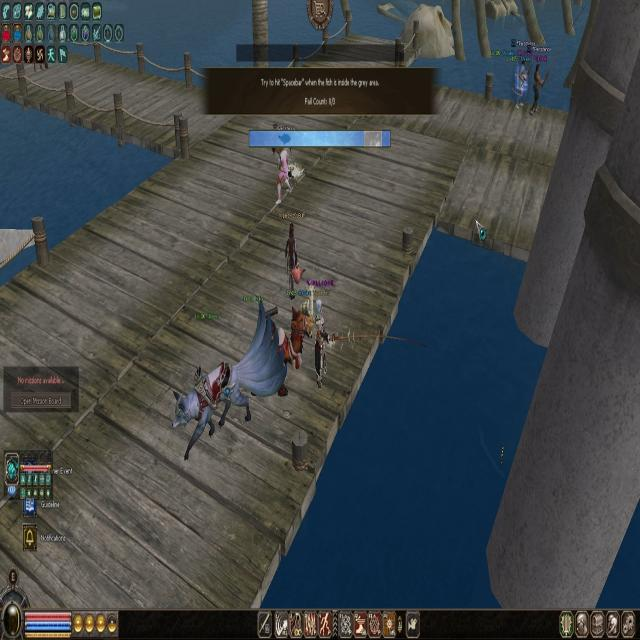fishes: (278, 133, 291, 144)
